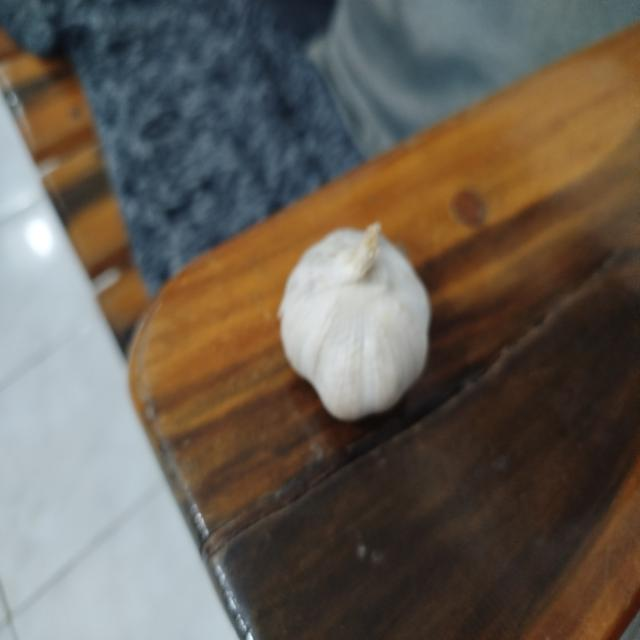garlic: (276, 221, 432, 422)
